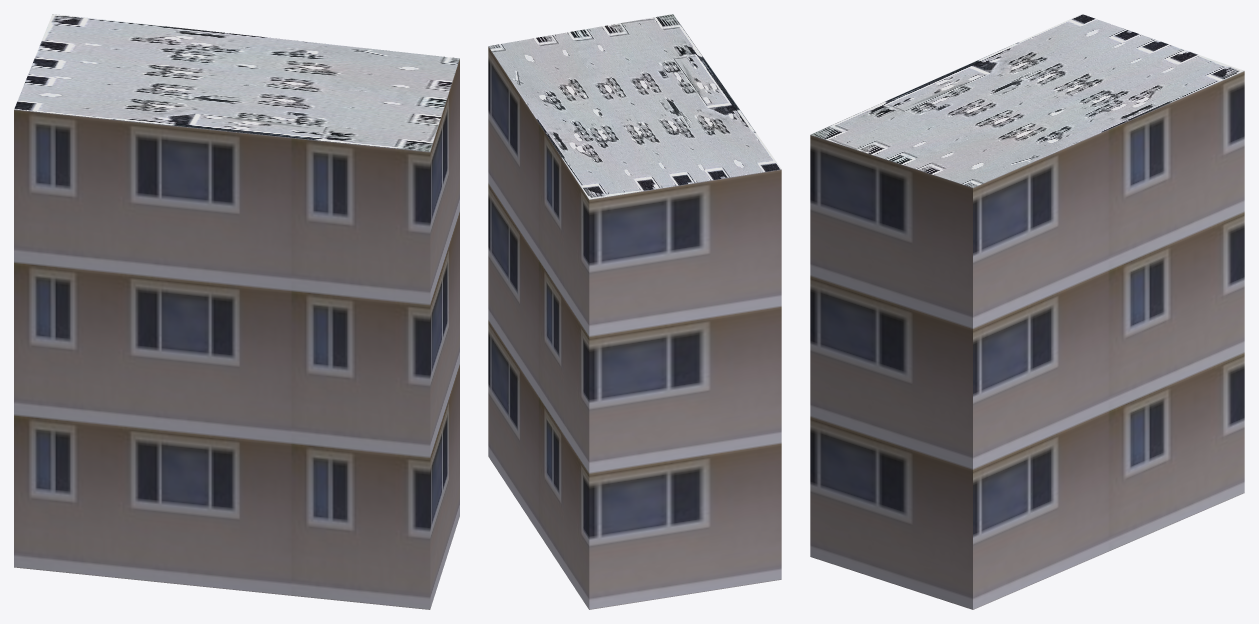
Rendered from ResTex__2854.fbx.
The picture shows the model from 3 angles, left to right: view 1: azimuth 30°, elevation 25°; view 2: azimuth 150°, elevation 25°; view 3: azimuth 270°, elevation 25°; orthographic projection. The views are drawn at different scales.
Parts seen in each view (by area): view 1: CityEngineMaterial_21_m, CityEngineMaterial_4_m; view 2: CityEngineMaterial_21_m, CityEngineMaterial_4_m; view 3: CityEngineMaterial_21_m, CityEngineMaterial_4_m.
Boxes of the visible parts, <box> form: CityEngineMaterial_21_m: <box>14,59,459,609</box>; CityEngineMaterial_4_m: <box>14,14,459,151</box>; CityEngineMaterial_21_m: <box>488,46,781,609</box>; CityEngineMaterial_4_m: <box>488,14,781,199</box>; CityEngineMaterial_21_m: <box>810,71,1244,609</box>; CityEngineMaterial_4_m: <box>810,14,1244,187</box>.
Bounding box in the file's own units: 7.95 × 9 × 8.4.
2 materials, 2 textured.
